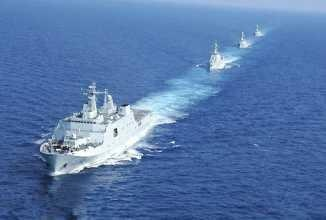warship: (40, 79, 145, 178), (204, 36, 229, 72), (239, 30, 252, 53), (253, 22, 267, 38)
